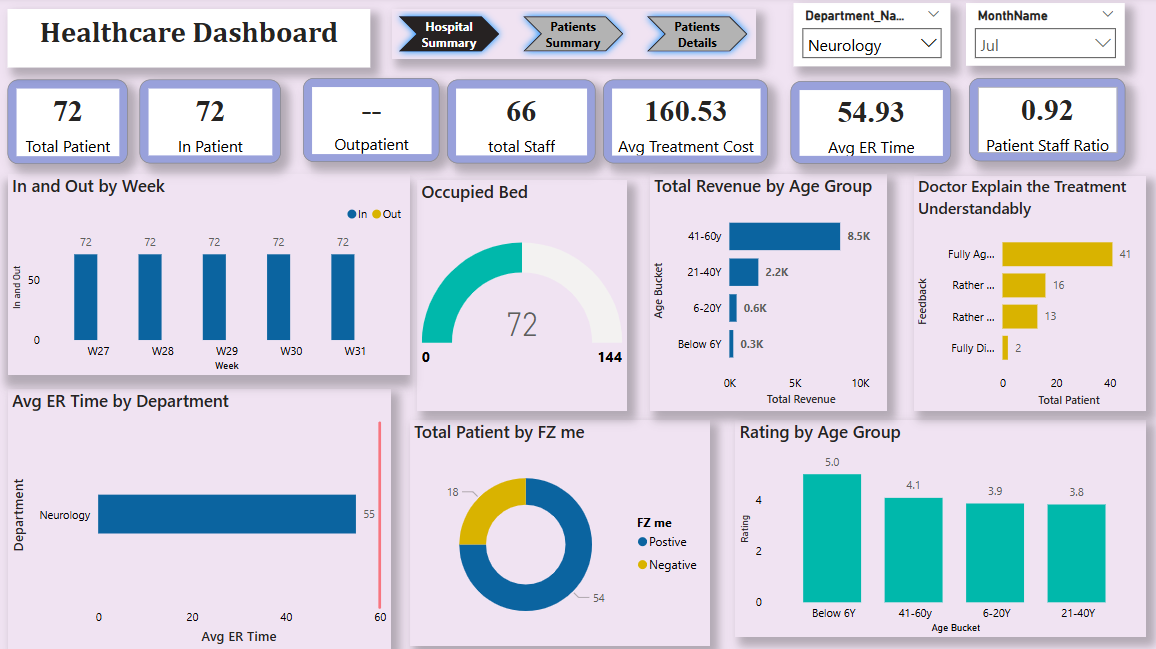

What the dashboard file says about the page in this screenshot:
{"tool":"powerbi","page":{"name":"Hospital Summary ","canvas":[1280,720],"ordinal":0},"visuals":[{"type":"cardVisual","fields":{"Data":["Measure.Total Patient"]},"box":[12.3,90.5,133,93.2],"z":1000},{"type":"textbox","box":[11.6,13.3,400.9,64.6],"z":2000},{"type":"slicer","fields":{"Values":["Department.Department_Name"]},"box":[878.9,6.1,173.6,69.7],"z":3000},{"type":"slicer","fields":{"Values":["Calendar_date.MonthName"]},"box":[1070.1,6.6,175.6,69.6],"z":4000},{"type":"cardVisual","fields":{"Data":["Measure.In Patient"]},"box":[157.4,91.1,155.7,92.8],"z":5000},{"type":"cardVisual","fields":{"Data":["Measure.Outpatient"]},"box":[337.9,89.4,150.7,92.8],"z":6000},{"type":"cardVisual","fields":{"Data":["Bed_Detail.total Staff"]},"box":[496.9,91.1,164,92.8],"z":7000},{"type":"cardVisual","fields":{"Data":["Measure.Avg Treatment Cost"]},"box":[669.2,91.1,182.2,92.8],"z":8000},{"type":"cardVisual","fields":{"Data":["Measure.Avg ER Time"]},"box":[876.3,92.8,177.2,91.1],"z":9000},{"type":"cardVisual","fields":{"Data":["Bed_Detail.Patient Staff Ratio"]},"box":[1073.5,89.1,172.8,91.9],"z":10000},{"type":"clusteredColumnChart","fields":{"Y":["Calendar_date.In Patient","Calendar_date.Outpatient"],"Category":["Calendar_date.WeekName"]},"box":[12.3,196.1,444.2,222.1],"z":11000},{"type":"gauge","fields":{"Y":["Divide(Measure.Occupied Bed, ScopedEval(Measure.Occupied Bed, []))"]},"box":[463.8,202.1,231.9,255.1],"z":12000},{"type":"clusteredBarChart","title":"Total Revenue by Age Group","fields":{"Y":["Measure.Total Revenue"],"Category":["Detail data dataset.Age Bucket"]},"box":[720.6,195.5,261.7,261.7],"z":13000},{"type":"barChart","fields":{"Y":["Measure.Avg ER Time"],"Category":["Department.Department_Name"]},"box":[12.3,431.9,423.7,287.9],"z":14000},{"type":"barChart","title":"Doctor Explain the Treatment Understandably","fields":{"Y":["Measure.Total Patient"],"Category":["Detail data dataset.Feedback"]},"box":[1012.1,197.1,256.8,260.1],"z":15000},{"type":"columnChart","title":"Rating by Age Group","fields":{"Y":["Measure.Rating"],"Category":["Detail data dataset.Age Bucket"]},"box":[815,467.1,453.9,240.2],"z":16000},{"type":"donutChart","fields":{"Y":["Measure.Total Patient"],"Category":["Detail data dataset.FZ me"]},"box":[455.5,467.1,331.3,250.1],"z":17000},{"type":"pageNavigator","box":[436.4,13.4,402.2,55],"z":18000}]}

Visuals, with their boxes in screenshot pixels (x1, y1, x2, y2), scaled from the page's 1280x720 canvas onto the 1156x649 screenshot:
cardVisual - Measure.Total Patient: [x1=11, y1=82, x2=131, y2=166]
textbox: [x1=10, y1=12, x2=373, y2=70]
slicer - Department.Department_Name: [x1=794, y1=5, x2=951, y2=68]
slicer - Calendar_date.MonthName: [x1=966, y1=6, x2=1125, y2=69]
cardVisual - Measure.In Patient: [x1=142, y1=82, x2=283, y2=166]
cardVisual - Measure.Outpatient: [x1=305, y1=81, x2=441, y2=164]
cardVisual - Bed_Detail.total Staff: [x1=449, y1=82, x2=597, y2=166]
cardVisual - Measure.Avg Treatment Cost: [x1=604, y1=82, x2=769, y2=166]
cardVisual - Measure.Avg ER Time: [x1=791, y1=84, x2=951, y2=166]
cardVisual - Bed_Detail.Patient Staff Ratio: [x1=970, y1=80, x2=1126, y2=163]
clusteredColumnChart - Calendar_date.In Patient x Calendar_date.Outpatient: [x1=11, y1=177, x2=412, y2=377]
gauge - Divide(Measure.Occupied Bed, ScopedEval(Measure.Occupied Bed, [])): [x1=419, y1=182, x2=628, y2=412]
"Total Revenue by Age Group" clusteredBarChart: [x1=651, y1=176, x2=887, y2=412]
barChart - Measure.Avg ER Time x Department.Department_Name: [x1=11, y1=389, x2=394, y2=648]
"Doctor Explain the Treatment Understandably" barChart: [x1=914, y1=178, x2=1146, y2=412]
"Rating by Age Group" columnChart: [x1=736, y1=421, x2=1146, y2=638]
donutChart - Measure.Total Patient x Detail data dataset.FZ me: [x1=411, y1=421, x2=711, y2=646]
pageNavigator: [x1=394, y1=12, x2=757, y2=62]
